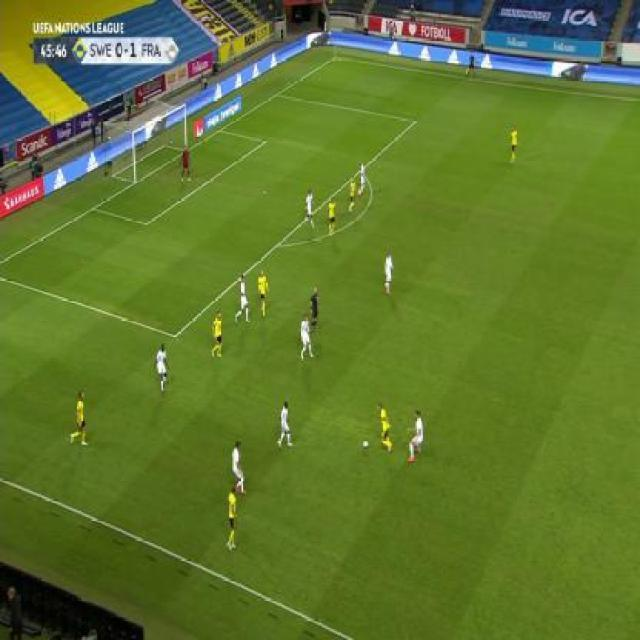ball: (362, 439, 370, 450)
player: (69, 390, 89, 450), (405, 409, 424, 463), (375, 401, 394, 454), (153, 342, 170, 398), (230, 441, 247, 497), (227, 485, 240, 553), (234, 275, 251, 326), (255, 269, 271, 318), (278, 400, 294, 449), (298, 313, 314, 359), (211, 311, 224, 360), (303, 190, 317, 233), (382, 250, 395, 296), (309, 285, 320, 331), (326, 196, 337, 239), (509, 124, 520, 166), (181, 144, 192, 183), (347, 176, 358, 215), (465, 52, 478, 80), (359, 158, 367, 197)
